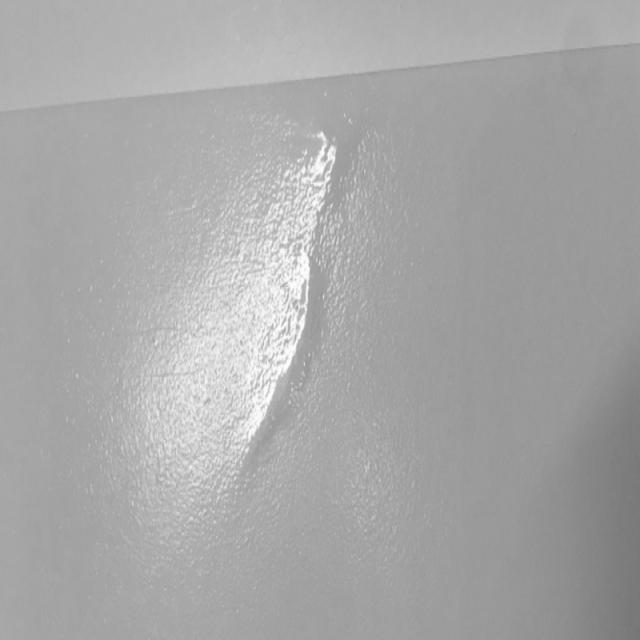paint drips: (212, 77, 386, 512)
